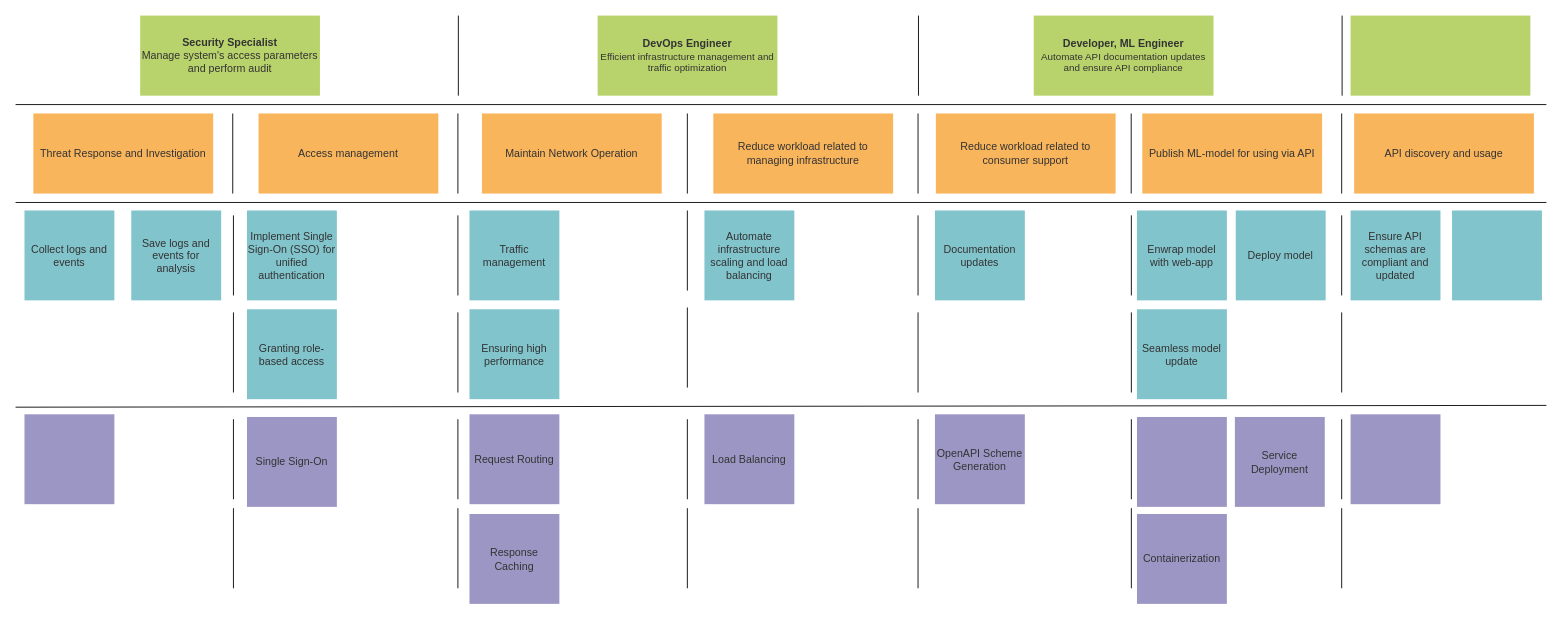
Image size: 1563x619. Some labels were removed from this diagram. The shapes that lost their labels are listed below. From the top down, each one's box as (x1, y1, x2, y2) in pixels, then its label:
(1350, 15, 1530, 95): API Consumer Get access to ML-services API via ad-hoc and automated tools
(1452, 210, 1541, 300): Access service HTTP API
(24, 414, 114, 504): Audit (Traffic Logging)
(1137, 417, 1226, 506): Modular Deployment of Models
(1350, 414, 1440, 504): Request Validation
